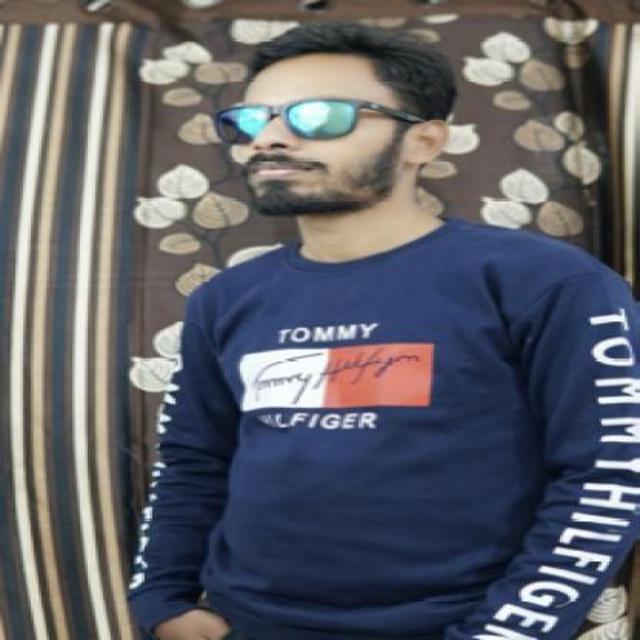sunglasses: (210, 98, 422, 144)
